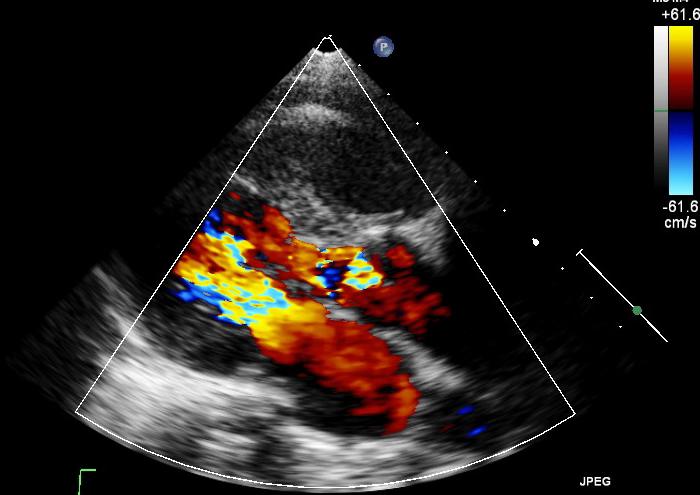AR: (289, 246, 384, 305)
